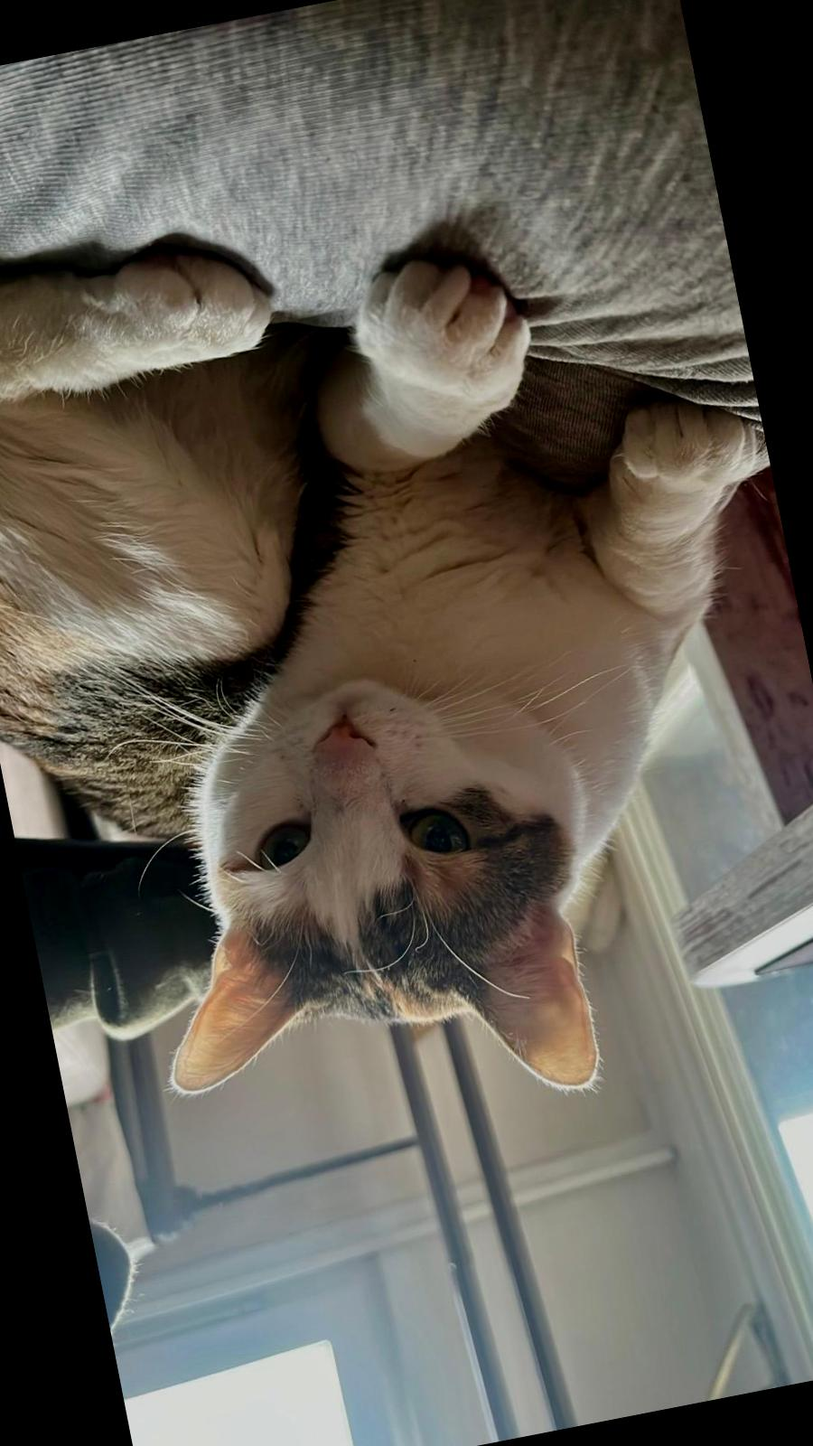macka: (0, 143, 813, 1189)
